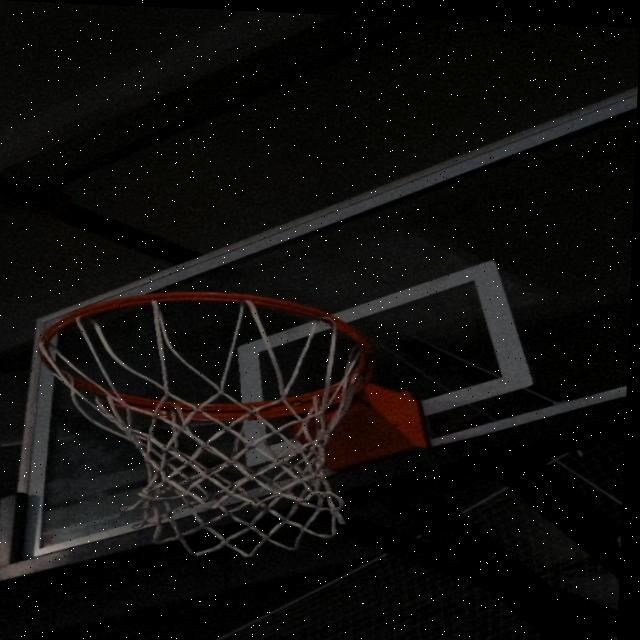hoop: (31, 279, 411, 581)
